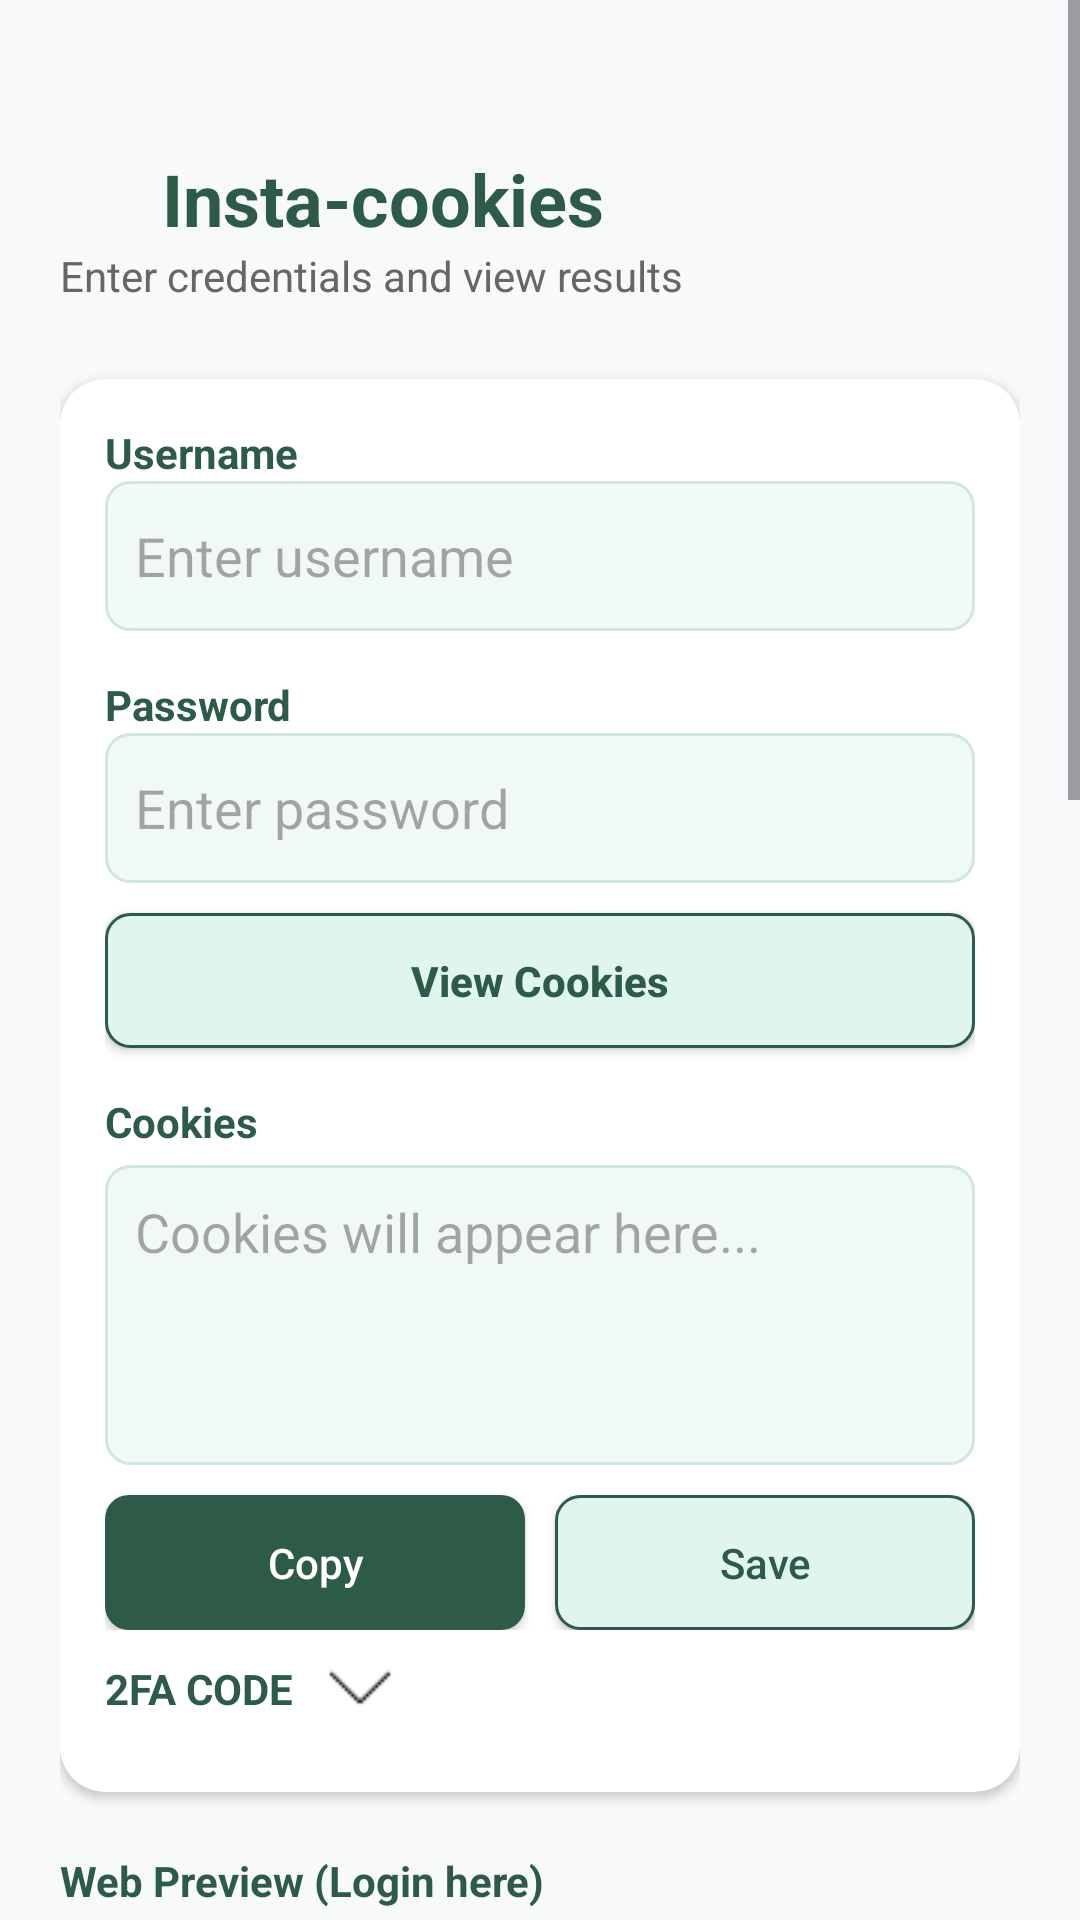

Icons on this 1080 x 1920 Android screen, each with the point to tap as (x,y):
drop down: (360,1687)
